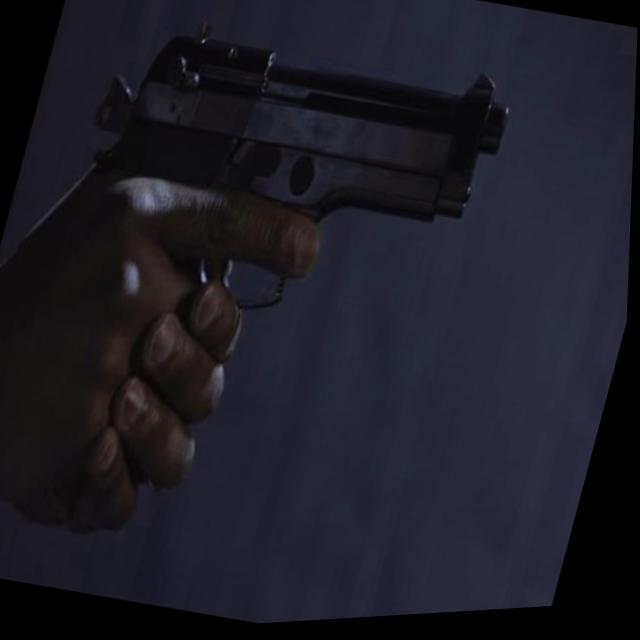weapon: (43, 0, 569, 399)
